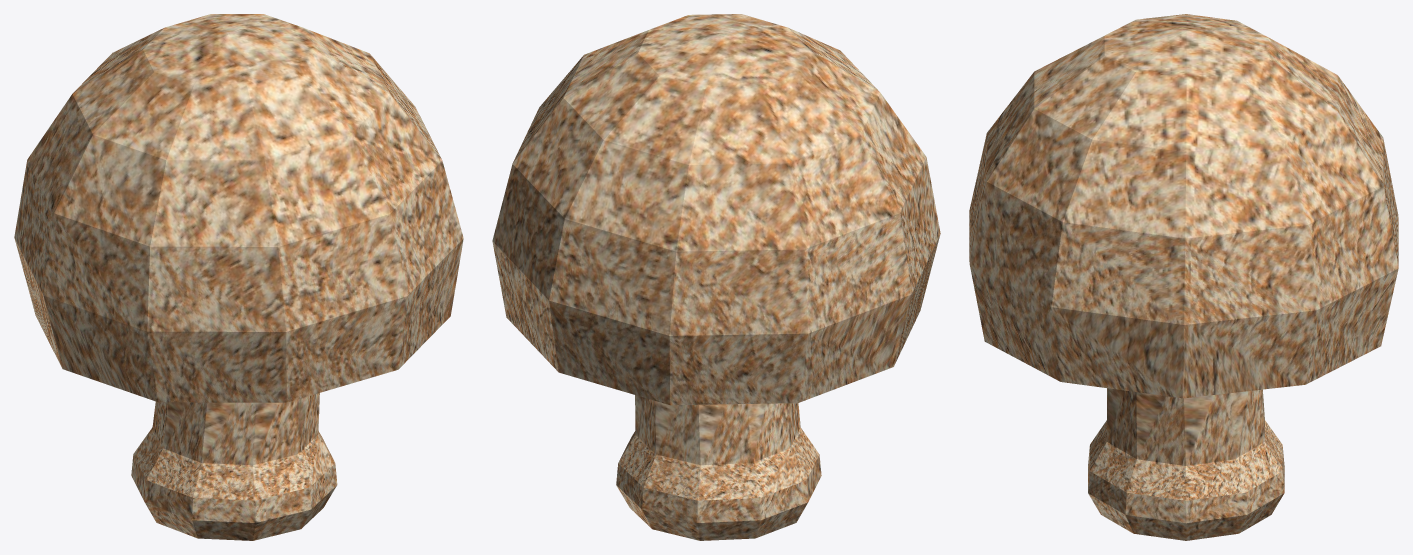
Rendered from shroom2.obj.
The picture shows the model from 3 angles, left to right: view 1: azimuth 30°, elevation 25°; view 2: azimuth 150°, elevation 25°; view 3: azimuth 270°, elevation 25°; orthographic projection.
Visible parts, largest first — view 1: Sphere.001, Sphere.003; view 2: Sphere.001, Sphere.003; view 3: Sphere.001, Sphere.003.
Boxes of the visible parts, box(x1,y1,x2,y2) form: Sphere.001: box(14, 14, 463, 402); Sphere.003: box(131, 393, 337, 540); Sphere.001: box(492, 14, 940, 405); Sphere.003: box(616, 395, 821, 540); Sphere.001: box(969, 14, 1398, 398); Sphere.003: box(1088, 388, 1284, 540).
Size of the model in its own units: 2 by 2.3 by 1.9.
